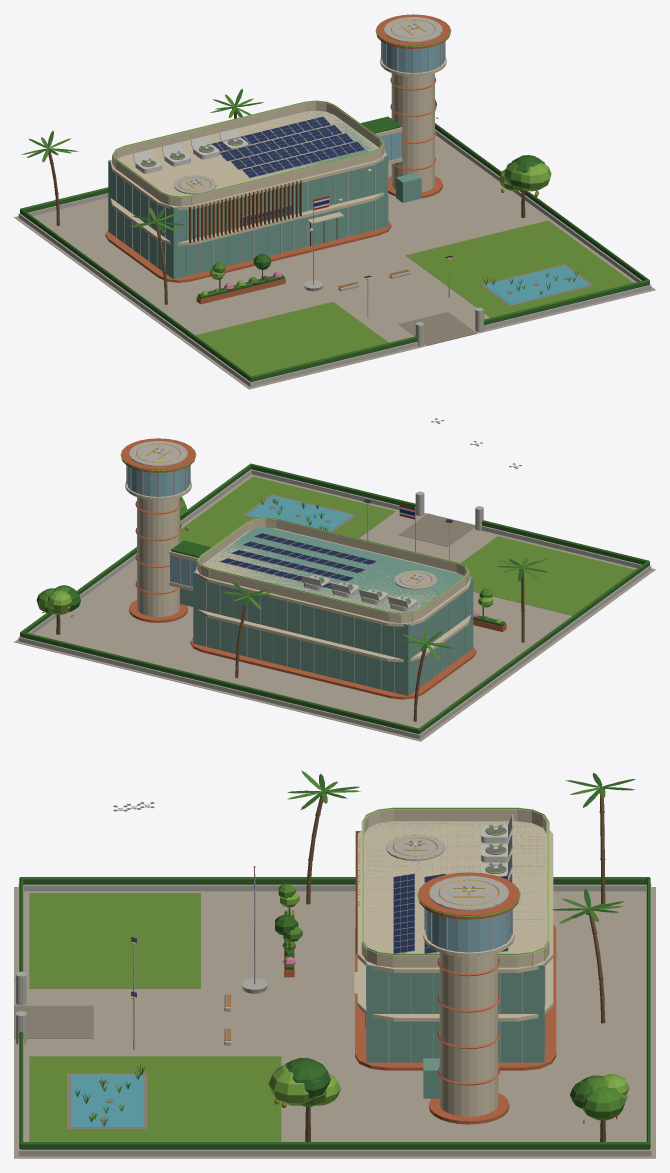
Rendered from police.glb.
3 renders of one model, top to bottom at view 1: azimuth 30°, elevation 25°; view 2: azimuth 150°, elevation 25°; view 3: azimuth 270°, elevation 25°, orthographic. The views are drawn at different scales.
Parts seen in each view (by area): view 1: body, windows; view 2: body, windows; view 3: body, windows.
Part boxes in pixels (bbox=[...]): body: bbox=[14, 14, 655, 389]; windows: bbox=[112, 17, 483, 329]; body: bbox=[14, 418, 655, 741]; windows: bbox=[120, 441, 468, 614]; body: bbox=[14, 770, 655, 1158]; windows: bbox=[15, 807, 548, 1020].
Bounding box in the file's own units: 49.16 × 18.07 × 47.9.
